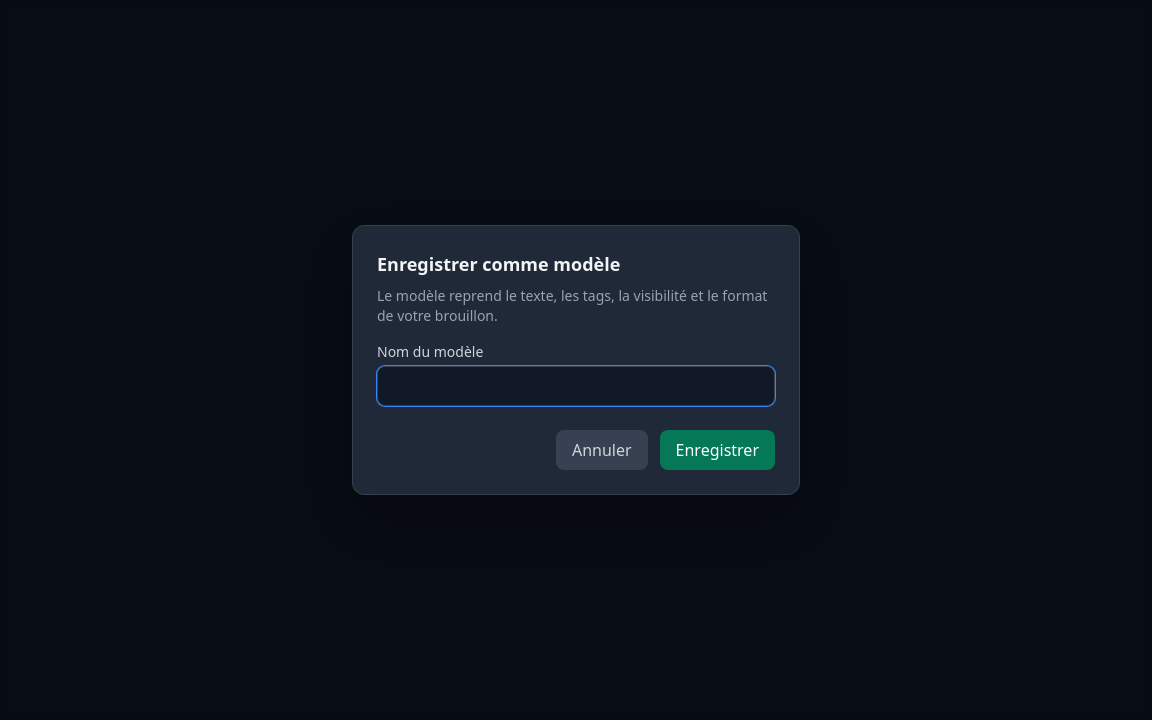
Test: TemplateNameDialog › speaks French
Expected: the dialog "Enregistrer comme modèle" is shown, [352,225,800,495]
Expected: the button "Annuler" is shown, [556,430,648,470]
What coordinates should you click on to do the following:
click the button "Enregistrer"
I would click on:
 (717, 450)
Its box is [660,430,775,470].
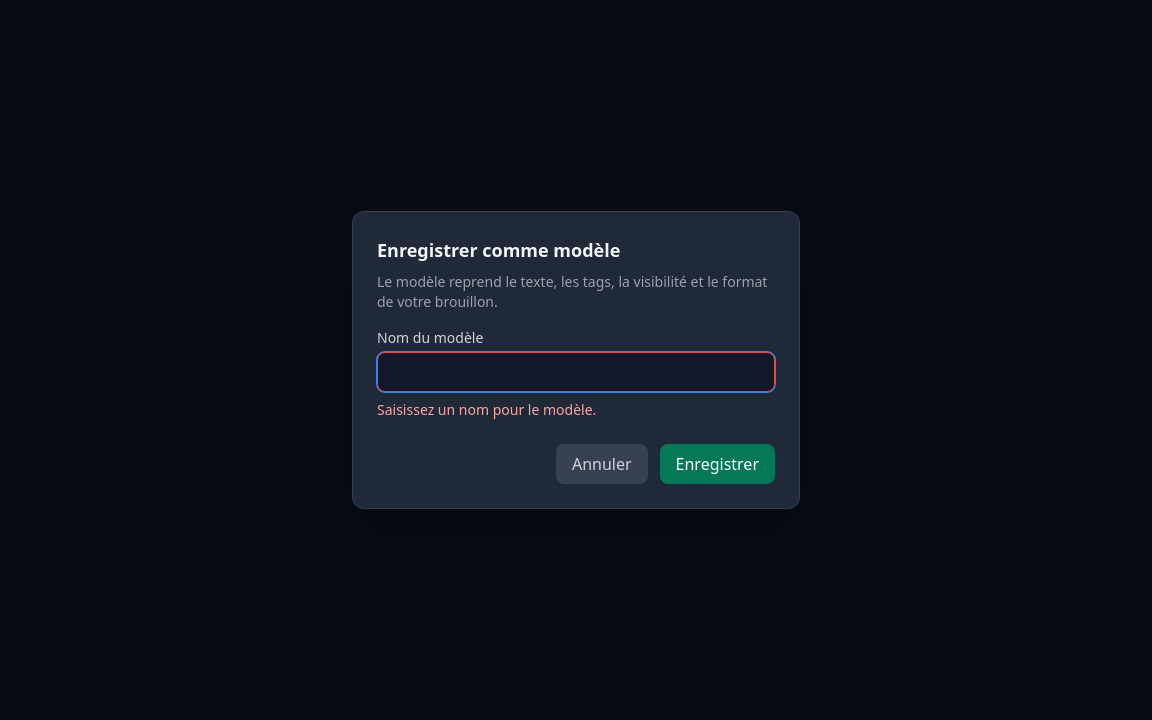
Now the message reads "Saisissez un nom pour le modèle.", box [377,400,596,419]
